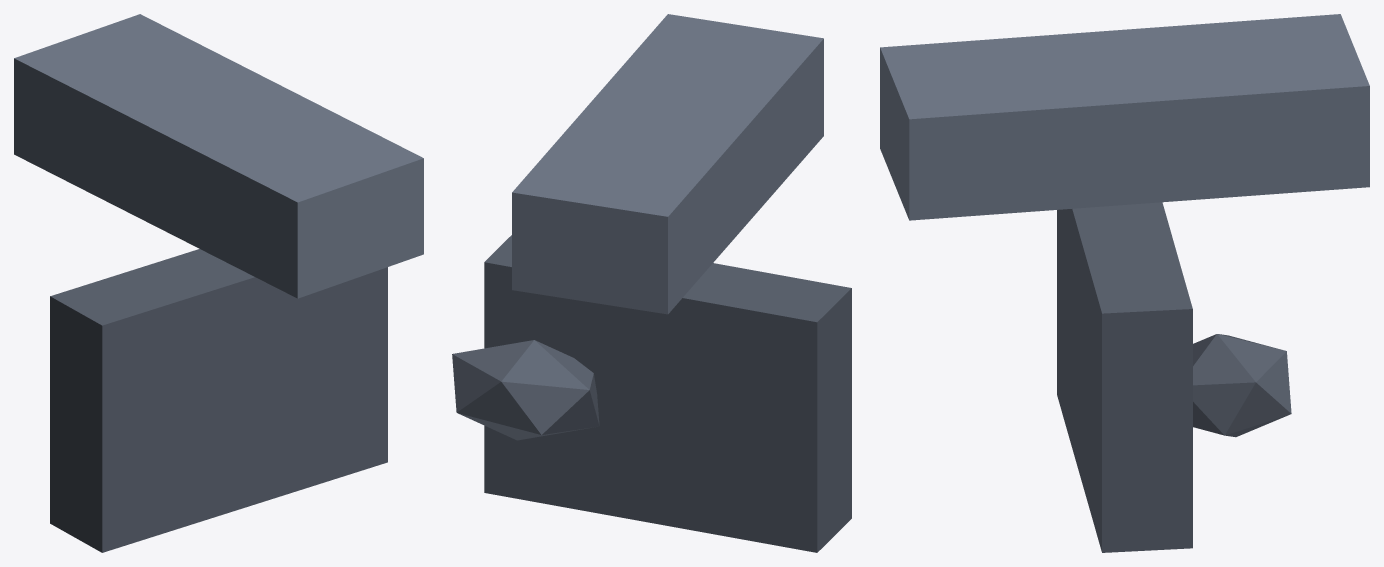
Rendered from EXTW_EastMarker_00.glb.
The picture shows the model from 3 angles, left to right: view 1: azimuth 30°, elevation 25°; view 2: azimuth 150°, elevation 25°; view 3: azimuth 270°, elevation 25°; orthographic projection. The views are drawn at different scales.
Visible parts, largest first — view 1: EXTW_EastMarker_00; view 2: EXTW_EastMarker_00; view 3: EXTW_EastMarker_00.
Part boxes in pixels (left/top/right/bottom): EXTW_EastMarker_00: left=14, top=14, right=423, bottom=552; EXTW_EastMarker_00: left=452, top=14, right=851, bottom=552; EXTW_EastMarker_00: left=880, top=14, right=1369, bottom=552.
Bounding box in the file's own units: 0.7562 × 0.88 × 0.9643.
